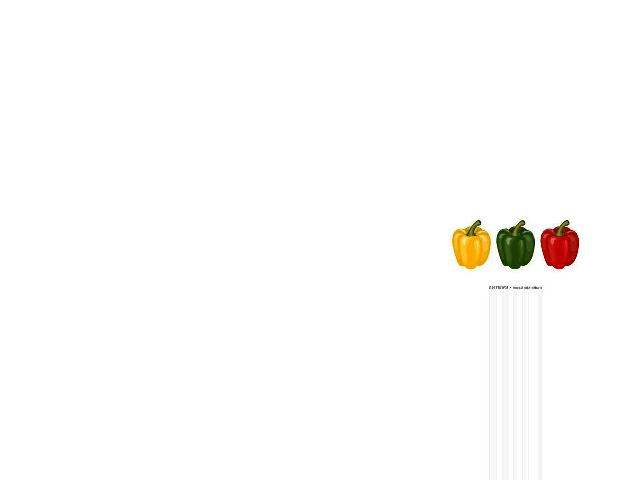bell_pepper: (450, 221, 493, 273)
